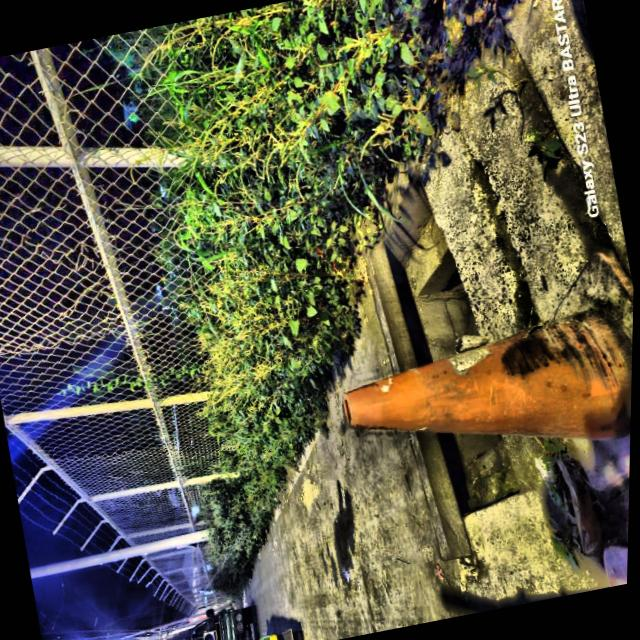open_manhole: (369, 156, 531, 370), (415, 431, 539, 566)
